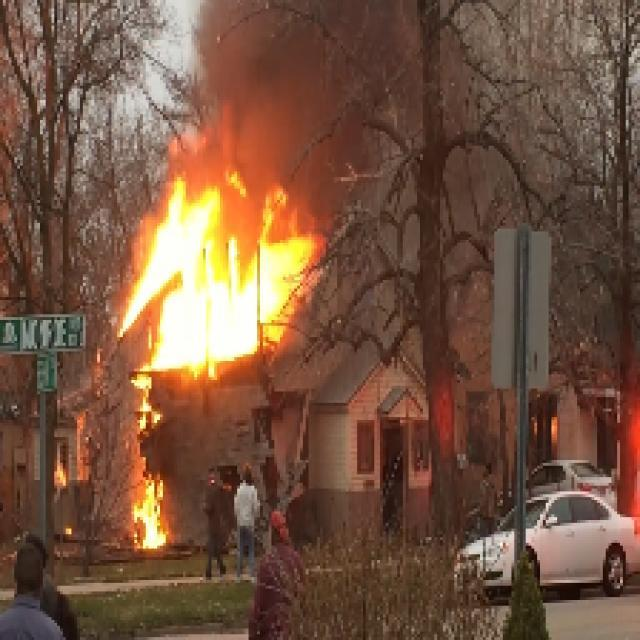Fire: (160, 199, 300, 354)
Smoke: (242, 11, 360, 163)
